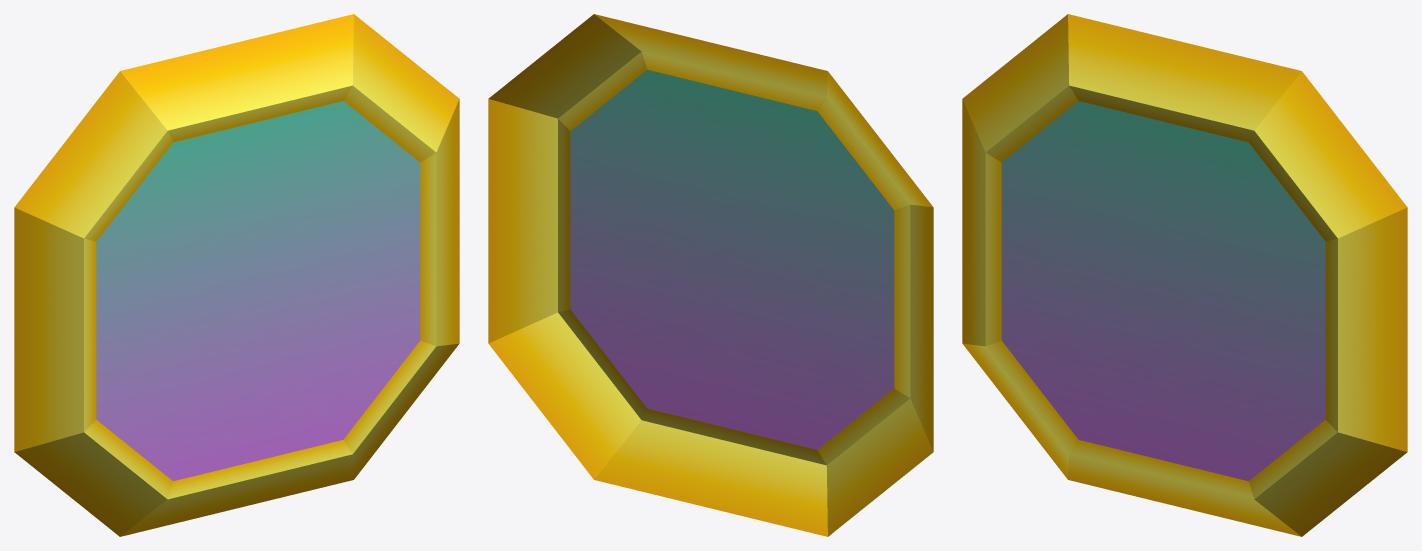
3 renders of one model, left to right at view 1: azimuth 30°, elevation 25°; view 2: azimuth 150°, elevation 25°; view 3: azimuth 330°, elevation 25°, orthographic.
Parts seen in each view (by area): view 1: Cube.012; view 2: Cube.012; view 3: Cube.012.
Part boxes in pixels (x1=…): Cube.012: x1=14, y1=14, x2=459, y2=536; Cube.012: x1=488, y1=14, x2=933, y2=536; Cube.012: x1=962, y1=14, x2=1407, y2=536.
Bounding box in the file's own units: 1.12 × 1.12 × 0.1011.
Materials: 1 (1 with a texture image).
